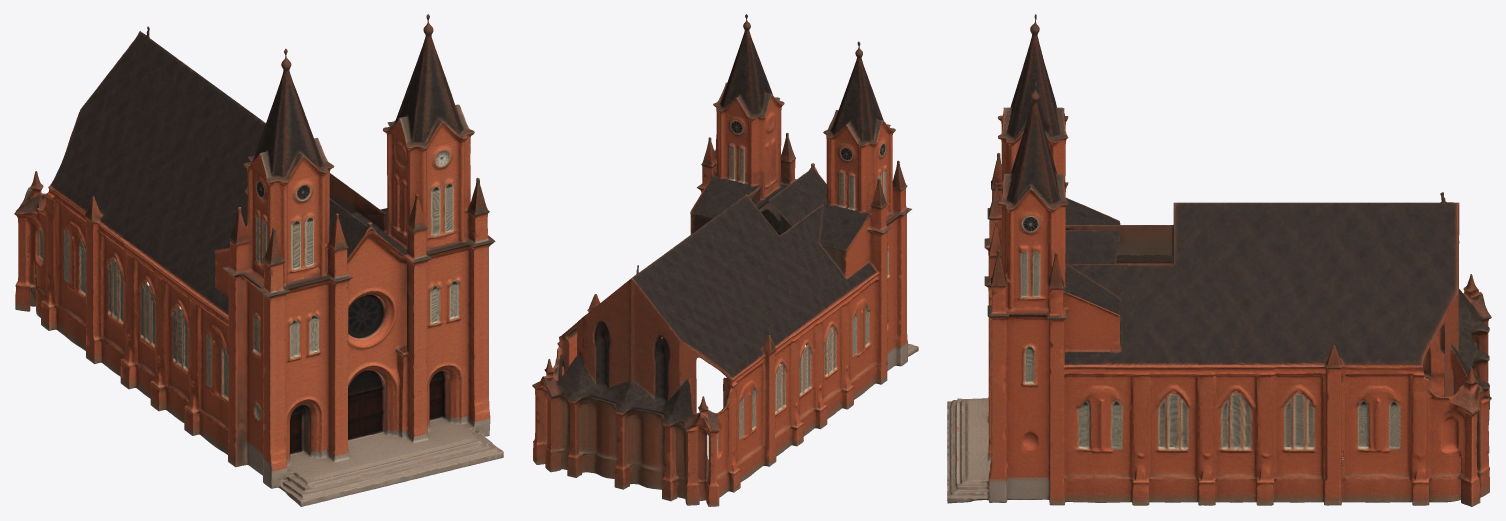
Rendered from iglesia.glb.
The picture shows the model from 3 angles, left to right: view 1: azimuth 30°, elevation 25°; view 2: azimuth 150°, elevation 25°; view 3: azimuth 270°, elevation 25°; orthographic projection. The views are drawn at different scales.
Size of the model in its own units: 0.9353 by 1.57 by 1.91.
Materials: 1 (1 with a texture image).
